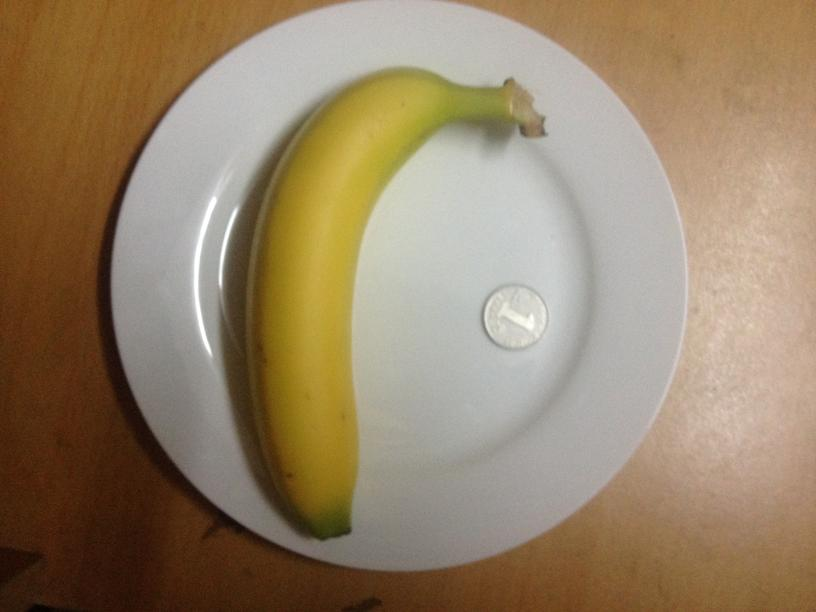banana: (248, 60, 545, 540)
coin: (481, 284, 547, 349)
